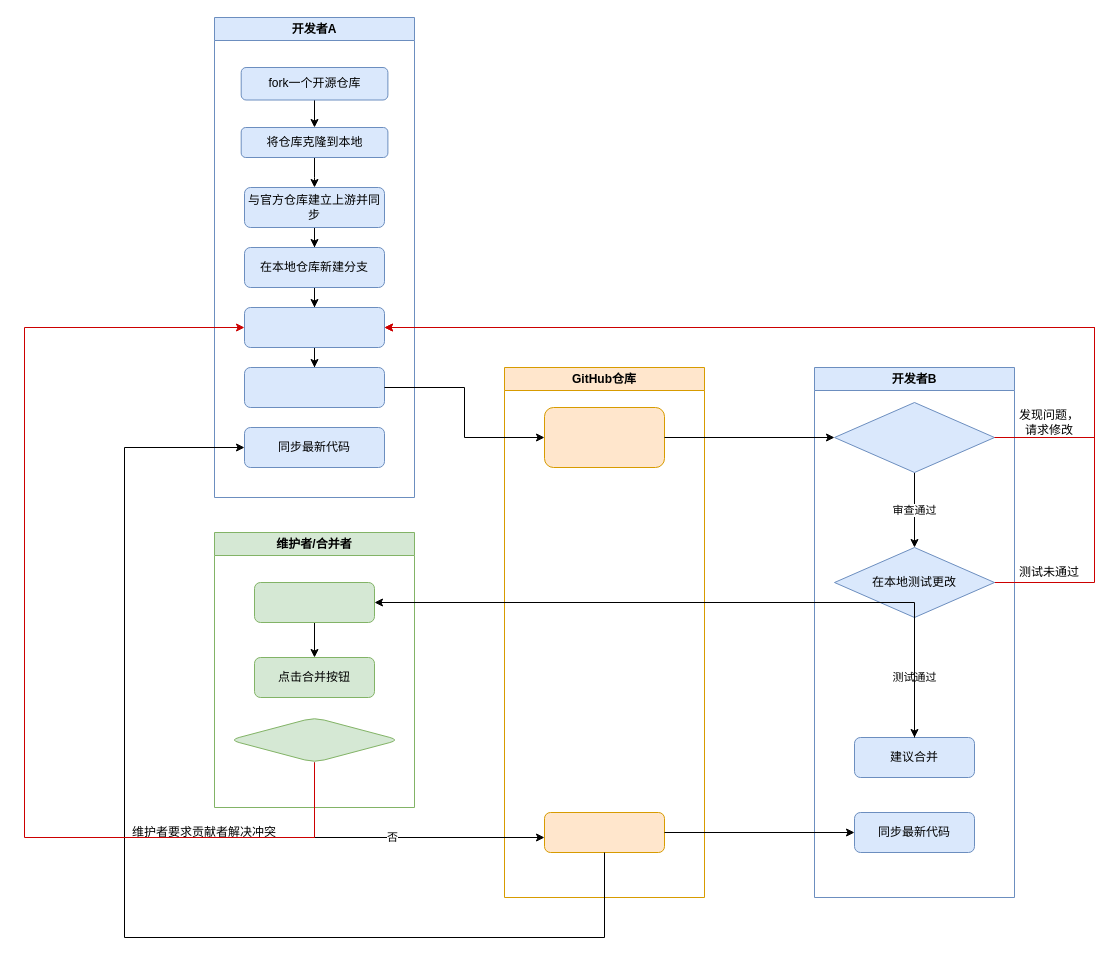
Image size: 1120x963. Some labels were removed from this diagram. The centre of each missing label's shape, as x and y in pixels:
与远程官方仓库同步，解决冲突: point (314, 387)
从fork仓库的新建分支向官方仓库的main分支发起Pull Request: point (604, 437)
合并后的新版本: point (604, 832)
审查Pull Request: point (314, 602)
审查代码，在 GitHub上评论PR: point (914, 437)
开发新功能: point (314, 327)
是否存在合并冲突？: point (314, 739)
